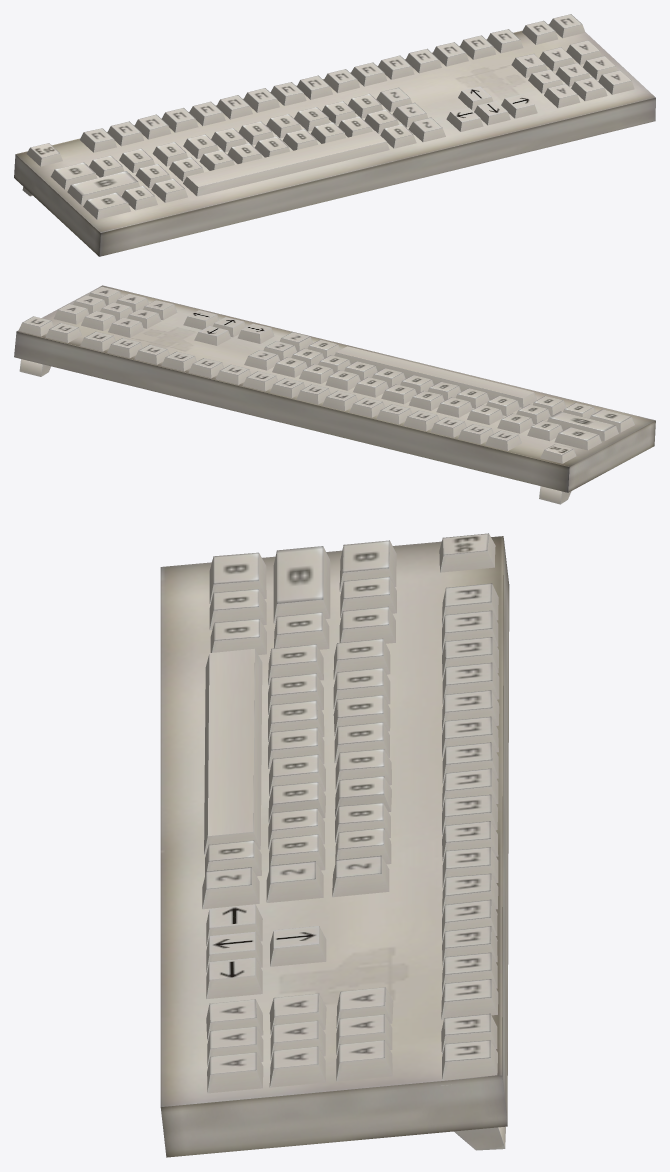
The model's file is keyboard.obj.
The picture shows the model from 3 angles, top to bottom: view 1: azimuth 30°, elevation 25°; view 2: azimuth 150°, elevation 25°; view 3: azimuth 270°, elevation 25°; orthographic projection. The views are drawn at different scales.
Parts seen in each view (by area): view 1: keyboard; view 2: keyboard; view 3: keyboard.
Part boxes in pixels (x1,y1,x2,y2): keyboard: (14,14,655,256); keyboard: (14,285,655,504); keyboard: (160,533,509,1157).
Size of the model in its own units: 24.66 by 2.06 by 6.7.
1 material, 1 textured.
